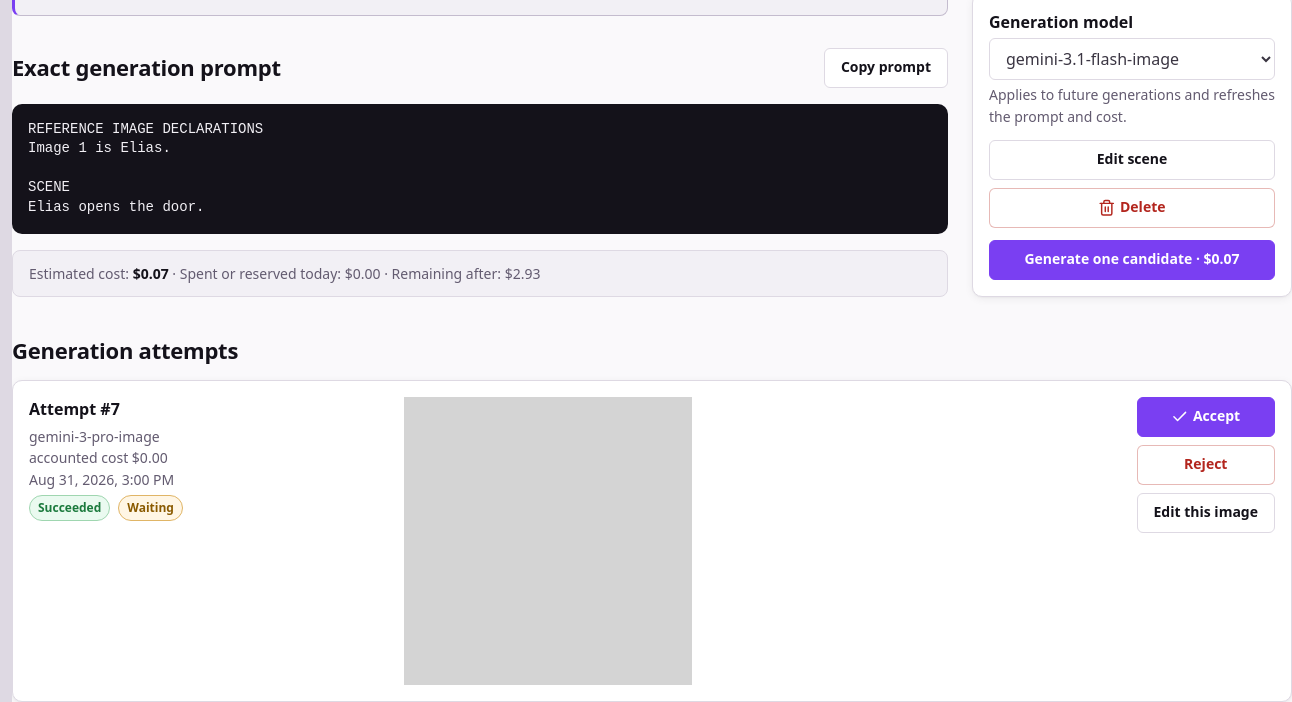
Test case: ScenePreviewPage — locked scene duplicate & edit › shows a carousel and reviews candidates from their attempt controls
(page scrolled)
Expected: the element with class "attempt-row" is shown, [12,380,1291,701]
Expected: the element with class "attempt-row__candidate-actions" is shown, [1136,397,1275,533]
Click the button "Accept".
click(1206, 417)  # box [1136,397,1275,437]
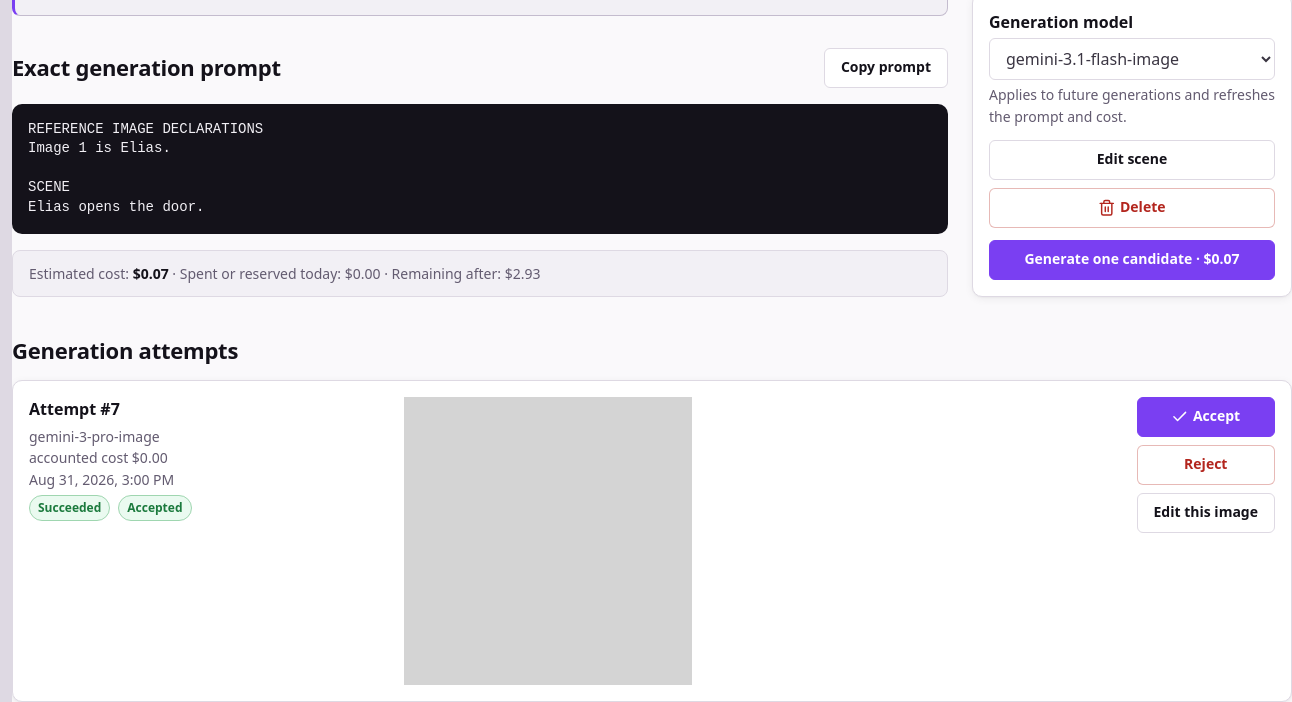
Result: the text "Waiting" is gone
